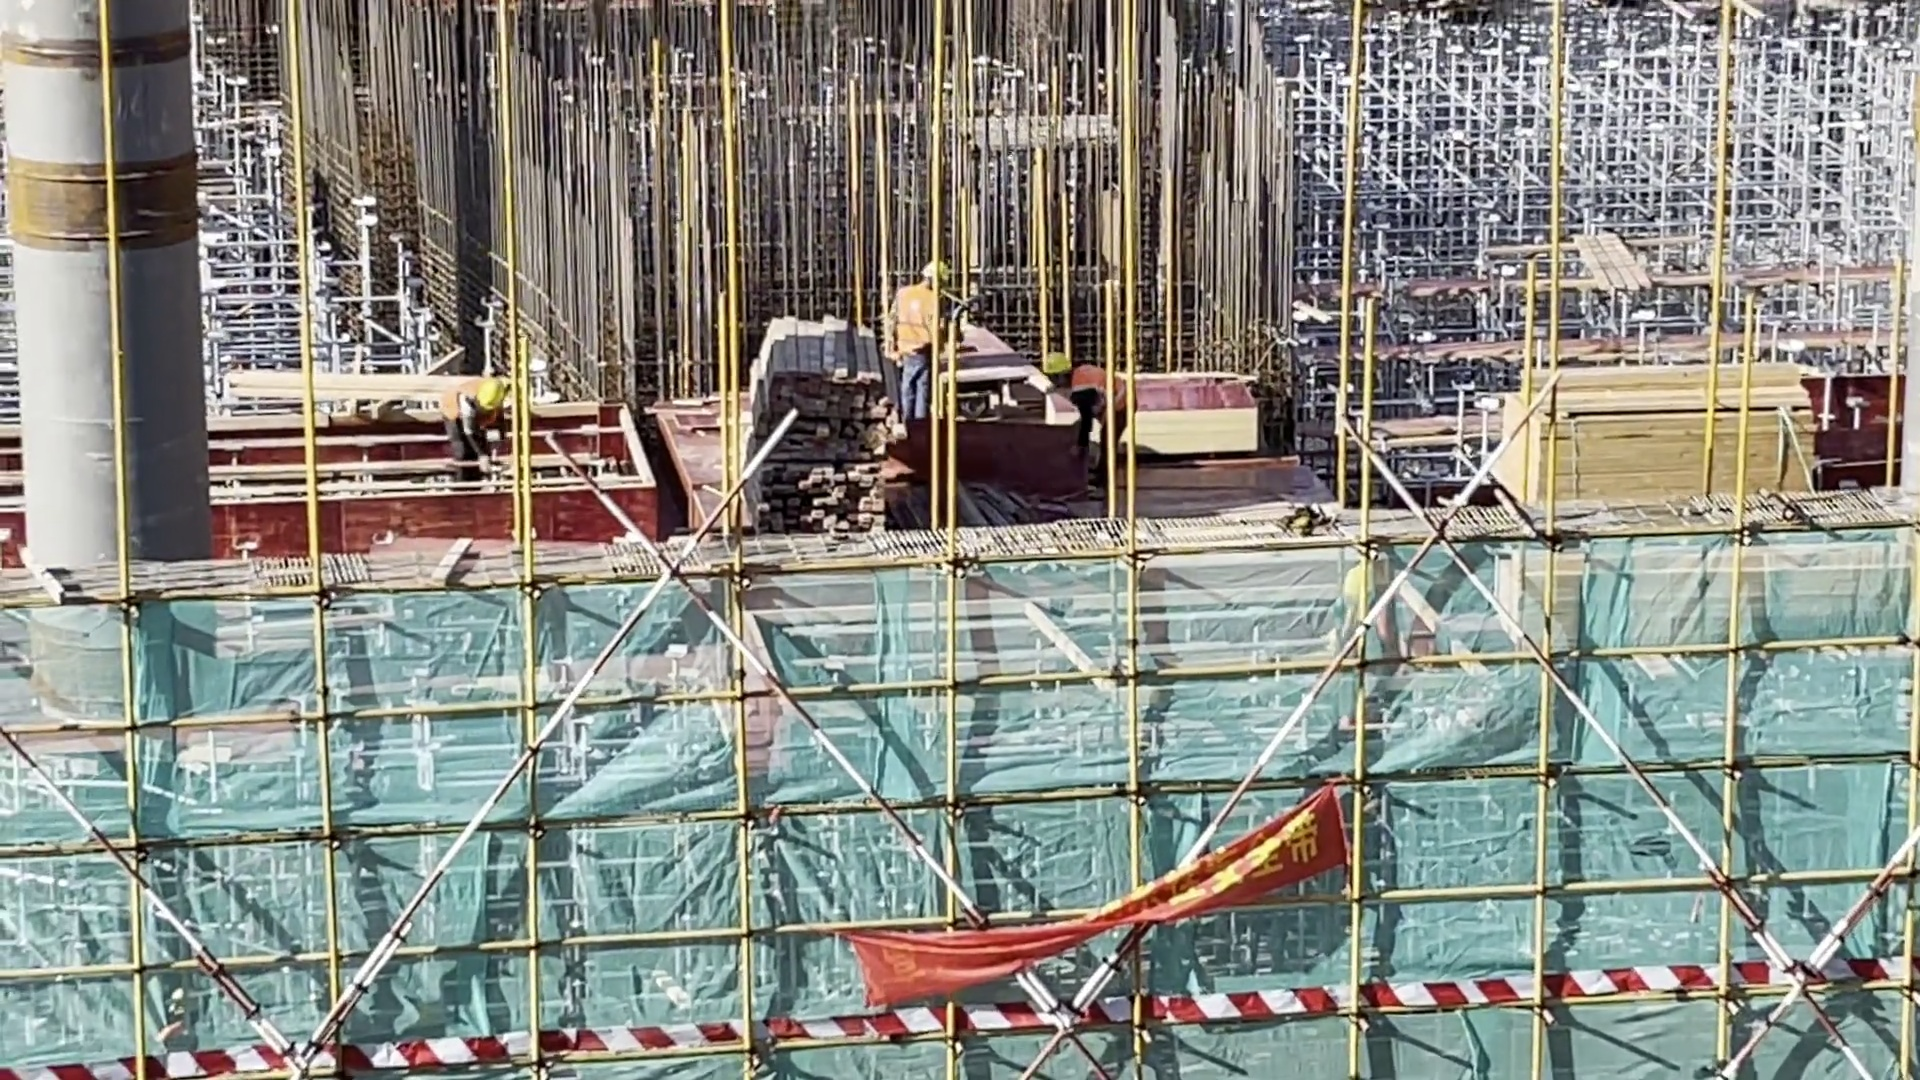board: (1064, 377, 1263, 457)
helmet: (478, 382, 505, 411), (1042, 351, 1072, 376), (922, 262, 953, 278)
person: (875, 256, 958, 427), (1053, 345, 1136, 478), (447, 365, 511, 494)
slogan: (905, 827, 1336, 987)
vest: (1073, 365, 1135, 423), (892, 288, 938, 359), (441, 387, 476, 428)
wood: (1492, 377, 1795, 505), (1499, 544, 1920, 633), (748, 344, 879, 447), (763, 467, 877, 547)
